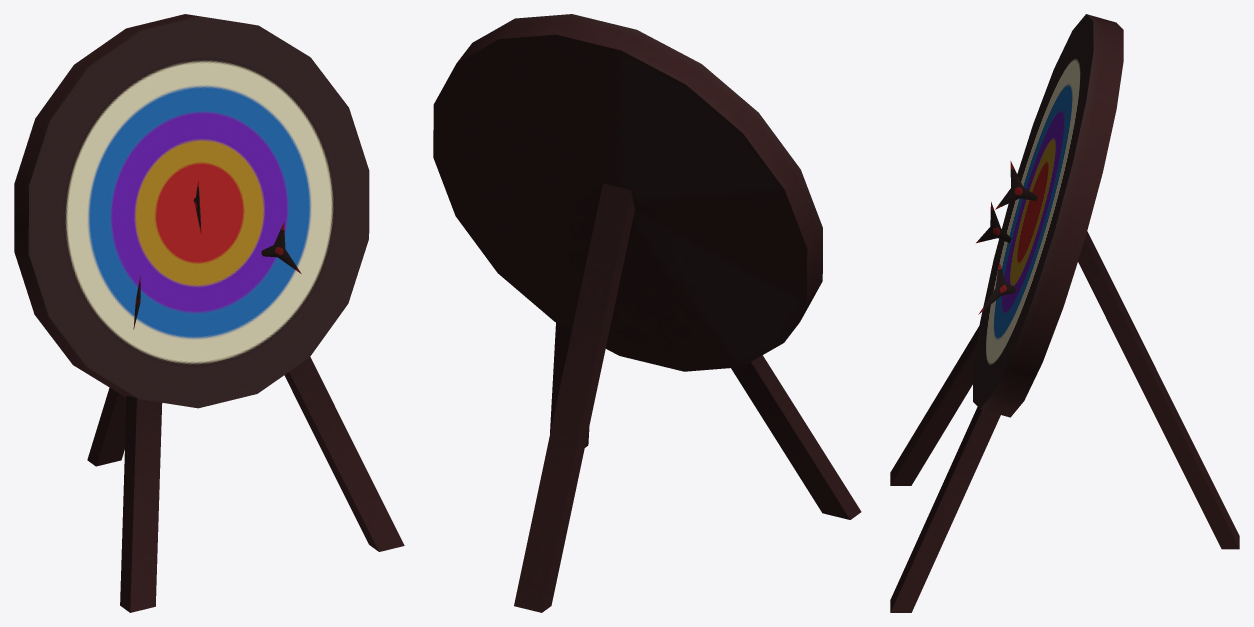
File: darts.fbx
3 views of the same model, side by side, from view 1: azimuth 30°, elevation 25°; view 2: azimuth 150°, elevation 25°; view 3: azimuth 270°, elevation 25° (orthographic). The views are drawn at different scales.
Visible parts, largest first — view 1: darts; view 2: darts; view 3: darts.
Part boxes in pixels (box(x1,y1,x2,y2)): darts: box(14, 14, 404, 612); darts: box(433, 14, 861, 612); darts: box(890, 14, 1239, 612).
Bounding box in the file's own units: 0.6068 × 0.8246 × 0.5158.
